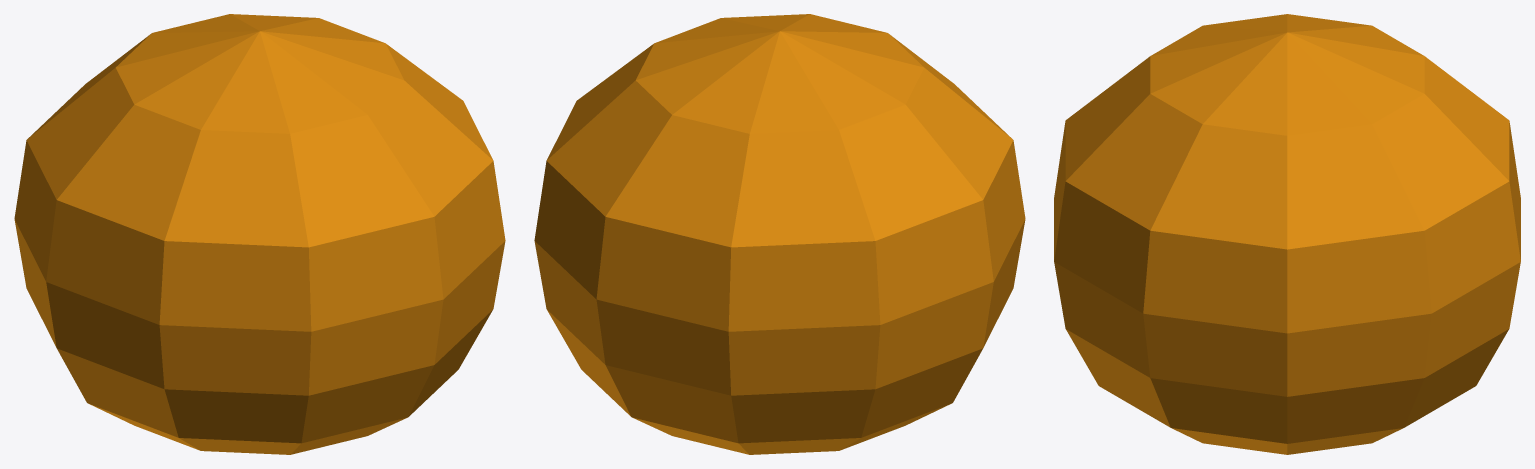
File: Orange.fbx
3 views of the same model, side by side, from view 1: azimuth 30°, elevation 25°; view 2: azimuth 150°, elevation 25°; view 3: azimuth 270°, elevation 25° (orthographic).
Visible parts, largest first — view 1: Orange; view 2: Orange; view 3: Orange.
Boxes of the visible parts, x1,y1,x2,y2 form: Orange: (14,14,505,454); Orange: (534,14,1025,454); Orange: (1054,14,1520,454).
Bounding box in the file's own units: 1.06 × 0.8621 × 1.01.
